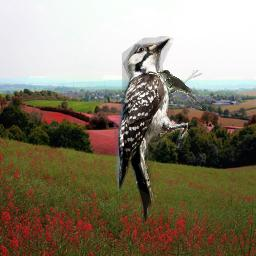Cuckoo: (157, 70, 202, 109)
Woodpecker: (112, 34, 188, 226)
